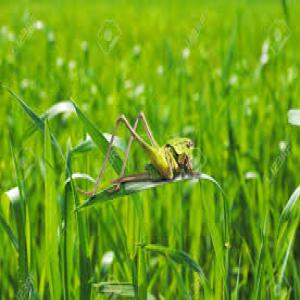locust: (79, 106, 228, 219)
